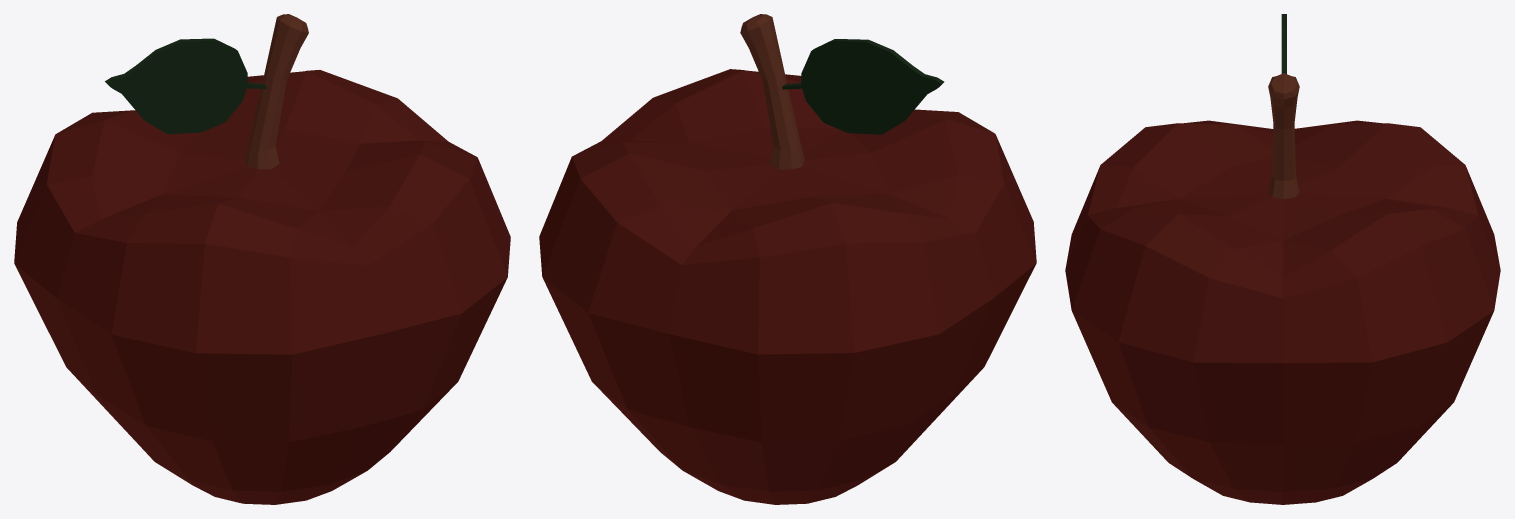
The model's file is Apple.glb.
3 renders of one model, left to right at view 1: azimuth 30°, elevation 25°; view 2: azimuth 150°, elevation 25°; view 3: azimuth 270°, elevation 25°, orthographic. The views are drawn at different scales.
Visible parts, largest first — view 1: Apple; view 2: Apple; view 3: Apple.
Part boxes in pixels (x1,y1,x2,y2): Apple: (14, 14, 510, 504); Apple: (539, 14, 1036, 504); Apple: (1065, 14, 1500, 504).
Bounding box in the file's own units: 80.25 × 85.17 × 79.87.
